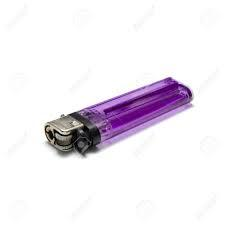lighter: (45, 76, 193, 159)
